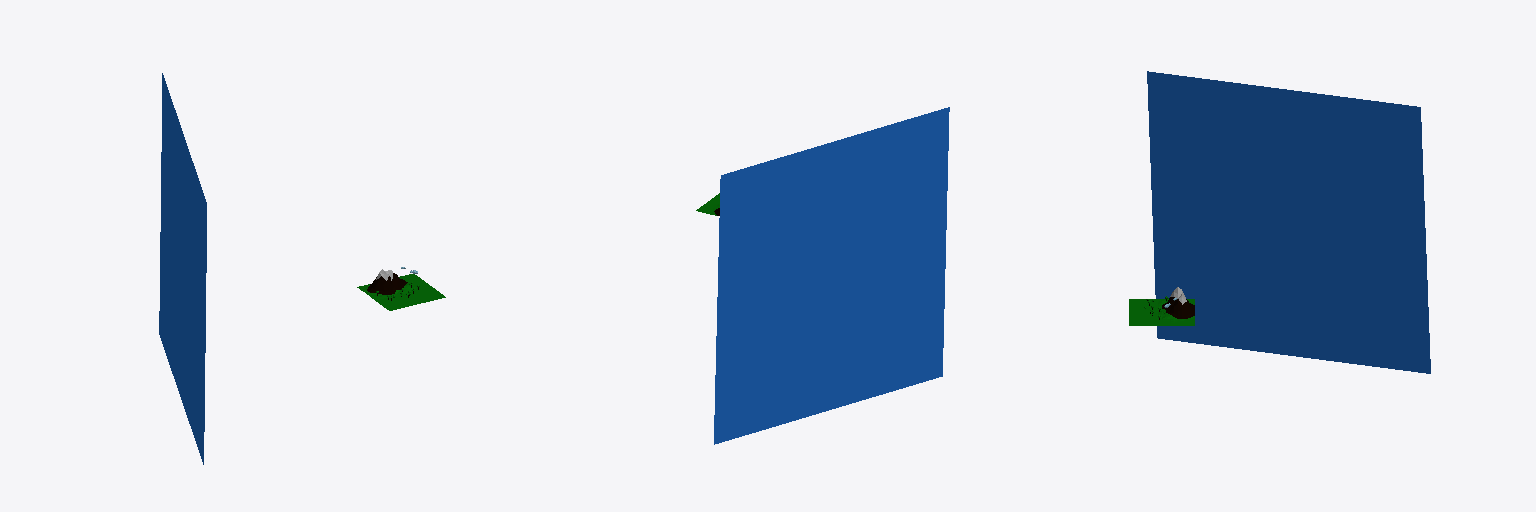
The model's file is landscape.obj.
3 renders of one model, left to right at view 1: azimuth 30°, elevation 25°; view 2: azimuth 150°, elevation 25°; view 3: azimuth 270°, elevation 25°, orthographic.
Parts seen in each view (by area): view 1: Plane, Плоскость; view 2: Plane; view 3: Plane, Плоскость.
Part boxes in pixels (bbox=[...]): Plane: bbox=[159, 73, 206, 464]; Плоскость: bbox=[357, 269, 445, 310]; Plane: bbox=[714, 107, 949, 444]; Plane: bbox=[1147, 71, 1430, 373]; Плоскость: bbox=[1129, 287, 1194, 325].
Bounding box in the file's own units: 64.19 × 73.39 × 72.94.